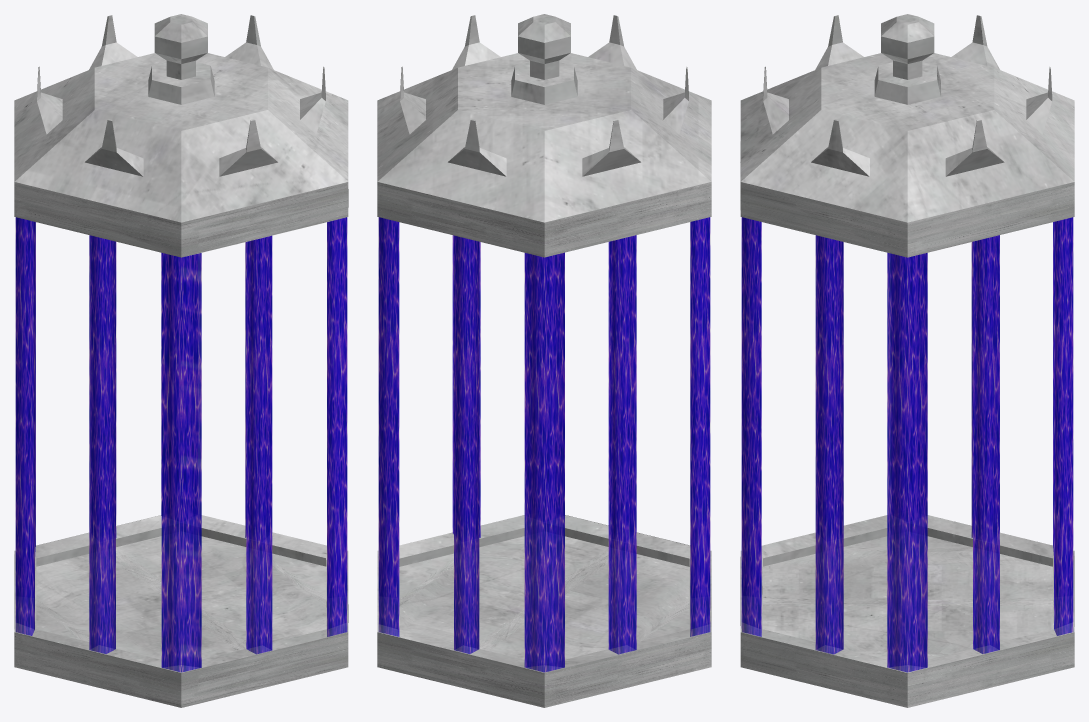
Rendered from cage.glb.
3 views of the same model, side by side, from view 1: azimuth 30°, elevation 25°; view 2: azimuth 150°, elevation 25°; view 3: azimuth 270°, elevation 25° (orthographic).
Visible parts, largest first — view 1: Cylinder; view 2: Cylinder; view 3: Cylinder.
Boxes of the visible parts, box(x1,y1,x2,y2) form: Cylinder: box(14, 14, 348, 707); Cylinder: box(377, 14, 711, 707); Cylinder: box(740, 14, 1074, 707).
Size of the model in its own units: 2 by 3.47 by 1.73.
2 materials, 2 textured.
